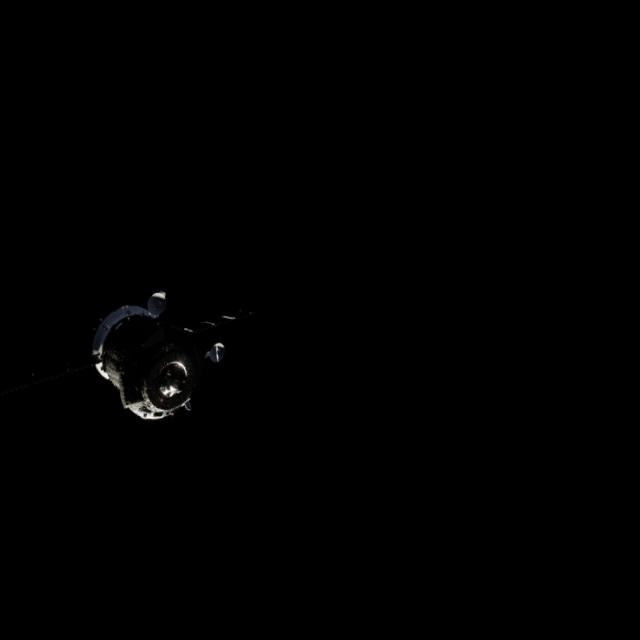Satellites revolving around earth: (74, 270, 256, 442)
